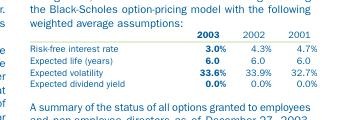table: (29, 28, 316, 88)
table column: (29, 28, 160, 88), (160, 28, 233, 88), (233, 28, 278, 88), (278, 28, 316, 88)
table column header: (29, 28, 316, 41)
table row: (29, 28, 316, 41), (29, 41, 316, 53), (29, 53, 316, 65), (29, 65, 316, 77), (29, 77, 316, 88)
